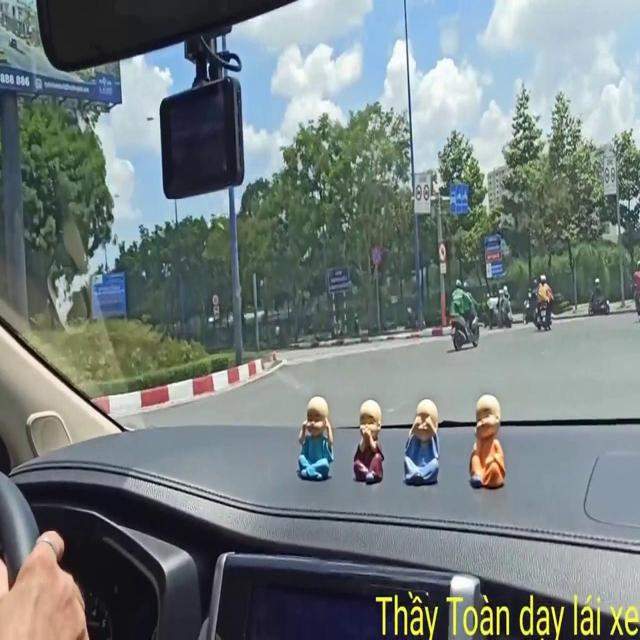Biển phụ: (437, 262, 447, 273)
Cấm các phương tiện hoạt động trong khung giờ cố định: (412, 169, 432, 217), (601, 152, 616, 198)
Cấm dừng - Cấm đỗ: (368, 244, 380, 262)
Cấm xe máy: (436, 240, 446, 260)
Giới hạn tốc độ: 60Km/h: (210, 289, 219, 307)
Khác: (89, 267, 131, 318), (484, 231, 505, 284), (324, 262, 349, 291)
Làn đường cho từng xe: (448, 182, 470, 214)
